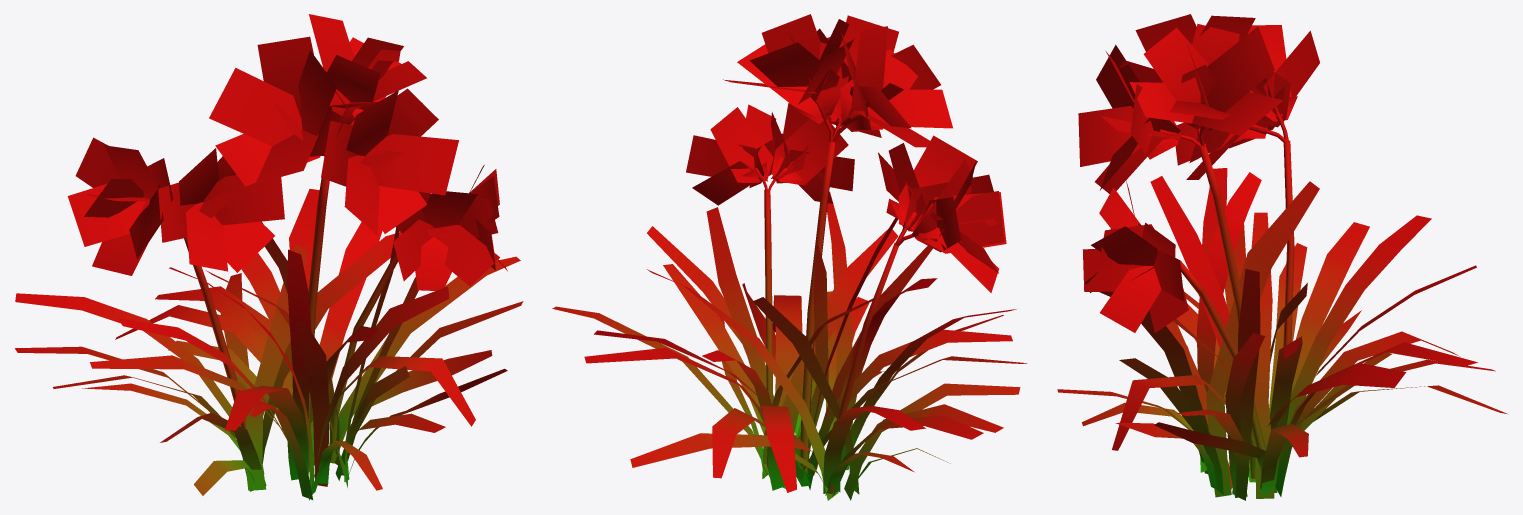
The model's file is Var6_LOD2.fbx.
3 renders of one model, left to right at view 1: azimuth 30°, elevation 25°; view 2: azimuth 150°, elevation 25°; view 3: azimuth 270°, elevation 25°, orthographic. The views are drawn at different scales.
Visible parts, largest first — view 1: _00b1_Var6_LOD2; view 2: _00b1_Var6_LOD2; view 3: _00b1_Var6_LOD2.
Boxes of the visible parts, box(x1,y1,x2,y2) form: _00b1_Var6_LOD2: box(15, 14, 523, 500); _00b1_Var6_LOD2: box(552, 14, 1026, 500); _00b1_Var6_LOD2: box(1057, 14, 1508, 500).
Size of the model in its own units: 102 by 95.85 by 84.41.
